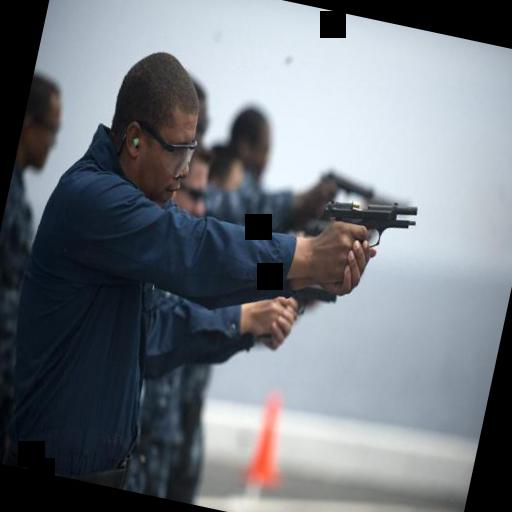Handgun: (310, 181, 422, 261), (315, 162, 379, 206), (280, 276, 340, 321)
